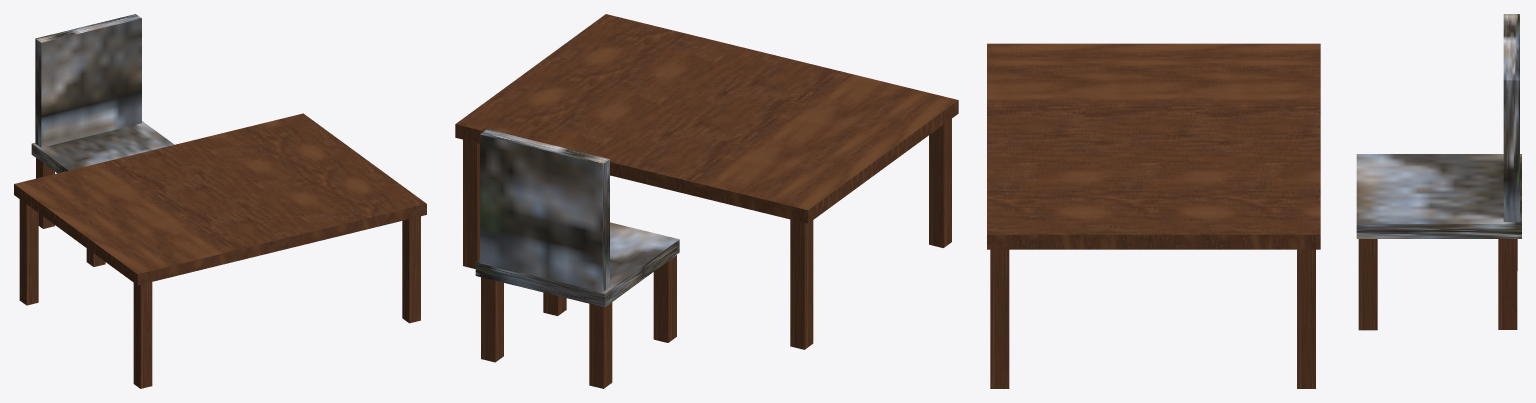
The model's file is table.glb.
3 views of the same model, side by side, from view 1: azimuth 30°, elevation 25°; view 2: azimuth 150°, elevation 25°; view 3: azimuth 270°, elevation 25° (orthographic). The views are drawn at different scales.
Visible parts, largest first — view 1: Cube, Cube.010, Cube.005, Cube.002, Cube.001, Cube.003, Cube.007; view 2: Cube, Cube.010, Cube.005, Cube.001, Cube.002, Cube.004, Cube.007, Cube.008, Cube.006, Cube.009; view 3: Cube, Cube.005, Cube.010, Cube.003, Cube.004, Cube.009, Cube.006.
Part boxes in pixels (x1,y1,x2,y2): Cube: [14, 113, 426, 285]; Cube.010: [35, 14, 141, 147]; Cube.005: [31, 121, 174, 173]; Cube.002: [133, 282, 152, 388]; Cube.001: [19, 199, 38, 305]; Cube.003: [402, 216, 420, 323]; Cube.007: [36, 158, 54, 228]; Cube: [455, 14, 958, 223]; Cube.010: [480, 129, 609, 292]; Cube.005: [475, 222, 679, 307]; Cube.001: [790, 219, 813, 349]; Cube.002: [929, 119, 951, 247]; Cube.004: [463, 139, 479, 268]; Cube.007: [589, 302, 612, 388]; Cube.008: [653, 255, 676, 342]; Cube.006: [481, 277, 503, 362]; Cube.009: [543, 292, 566, 315]; Cube: [987, 43, 1320, 249]; Cube.005: [1356, 154, 1521, 238]; Cube.010: [1503, 14, 1519, 221]; Cube.003: [990, 249, 1009, 388]; Cube.004: [1297, 249, 1315, 388]; Cube.009: [1358, 239, 1377, 330]; Cube.006: [1498, 239, 1517, 329].
Size of the model in its own units: 5.46 by 3.33 by 6.47.
Materials: 1 (1 with a texture image).
